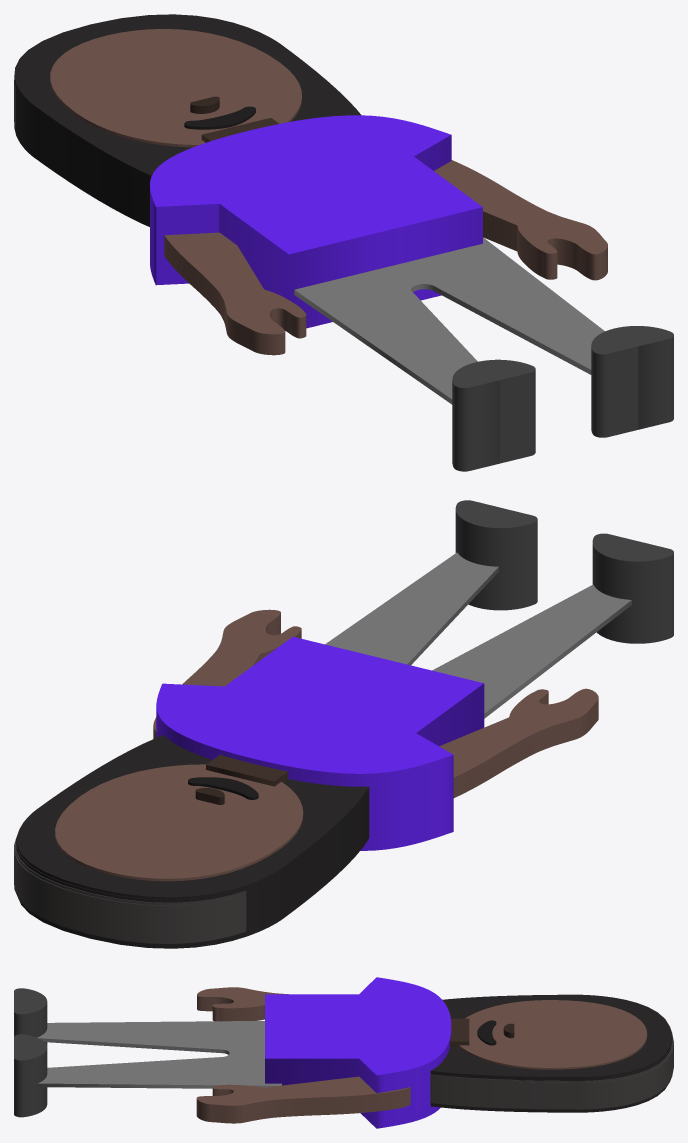
Rendered from emoji_u1f9cd_1f3ff_200d_2640.glb.
The picture shows the model from 3 angles, top to bottom: view 1: azimuth 30°, elevation 25°; view 2: azimuth 150°, elevation 25°; view 3: azimuth 270°, elevation 25°; orthographic projection. The views are drawn at different scales.
Visible parts, largest first — view 1: emoji_u1f9cd_1f3ff_200d_2640; view 2: emoji_u1f9cd_1f3ff_200d_2640; view 3: emoji_u1f9cd_1f3ff_200d_2640.
Part boxes in pixels (left/top/right/bottom): emoji_u1f9cd_1f3ff_200d_2640: left=14, top=14, right=673, bottom=471; emoji_u1f9cd_1f3ff_200d_2640: left=14, top=500, right=673, bottom=948; emoji_u1f9cd_1f3ff_200d_2640: left=14, top=977, right=673, bottom=1128.
Bounding box in the file's own units: 0.0145 × 0.0032 × 0.0337.
